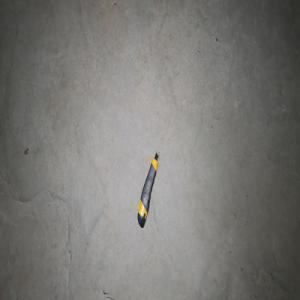Cutter: (137, 151, 159, 228)
